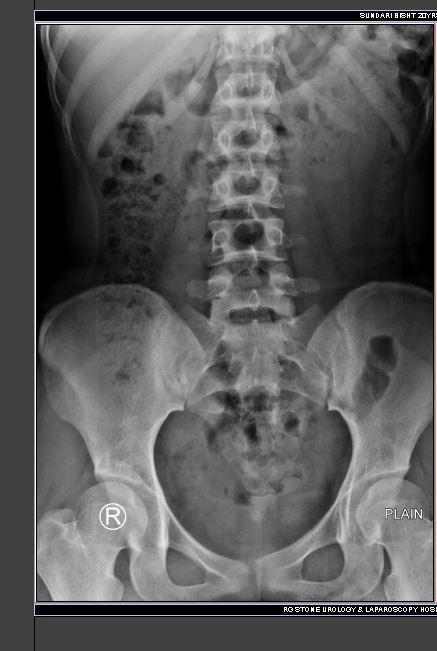vertebrae: (198, 63, 270, 116)
